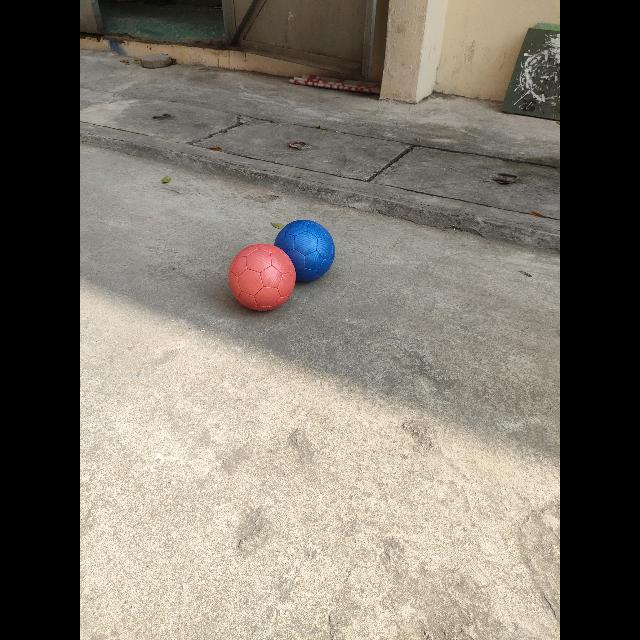B: (275, 220, 335, 282)
R: (229, 244, 295, 310)
